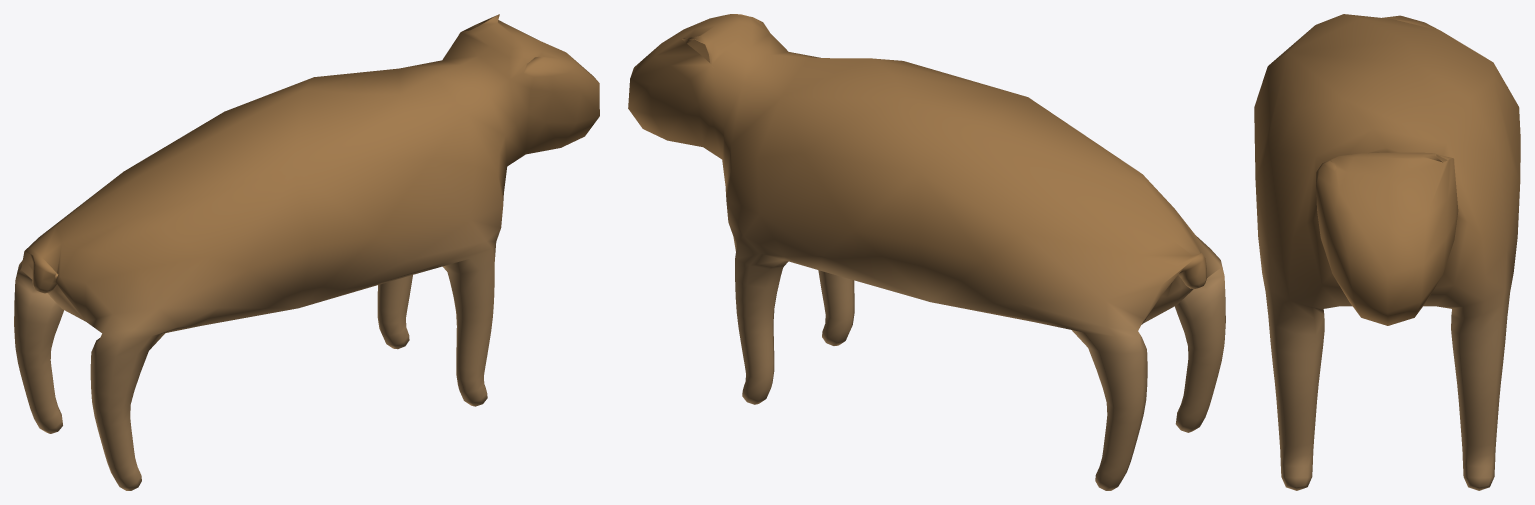
Rendered from pig.glb.
3 views of the same model, side by side, from view 1: azimuth 30°, elevation 25°; view 2: azimuth 150°, elevation 25°; view 3: azimuth 270°, elevation 25° (orthographic). The views are drawn at different scales.
Visible parts, largest first — view 1: pig; view 2: pig; view 3: pig.
Part boxes in pixels (x1=…): pig: x1=14, y1=14, x2=599, y2=490; pig: x1=628, y1=14, x2=1225, y2=490; pig: x1=1254, y1=14, x2=1520, y2=490.
Bounding box in the file's own units: 1.65 × 0.9072 × 0.5802.
